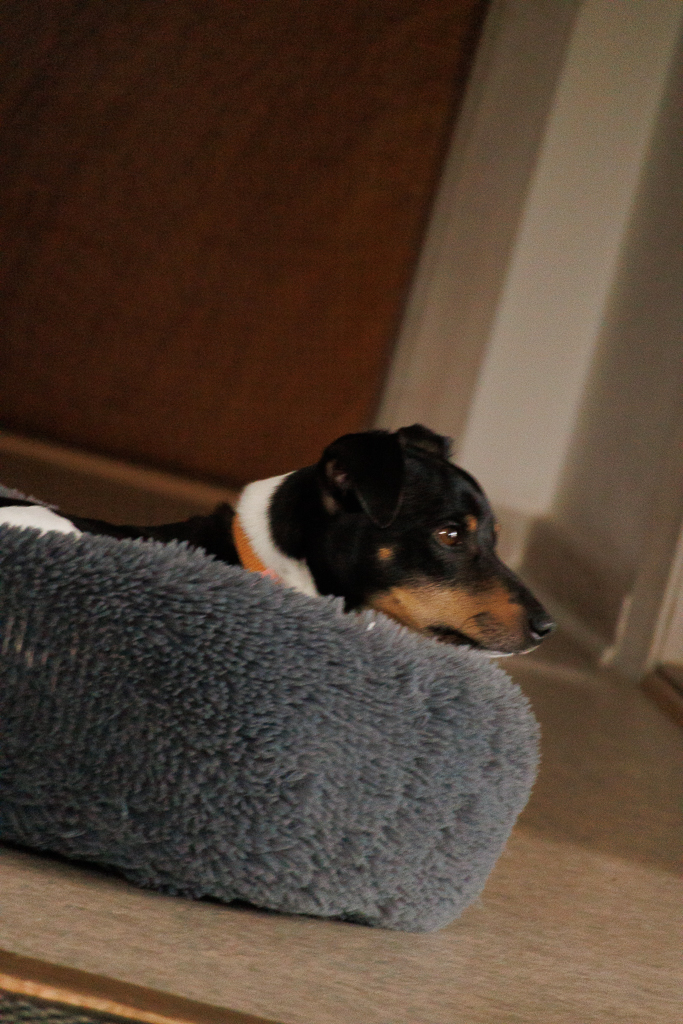Dog: (0, 416, 568, 669)
